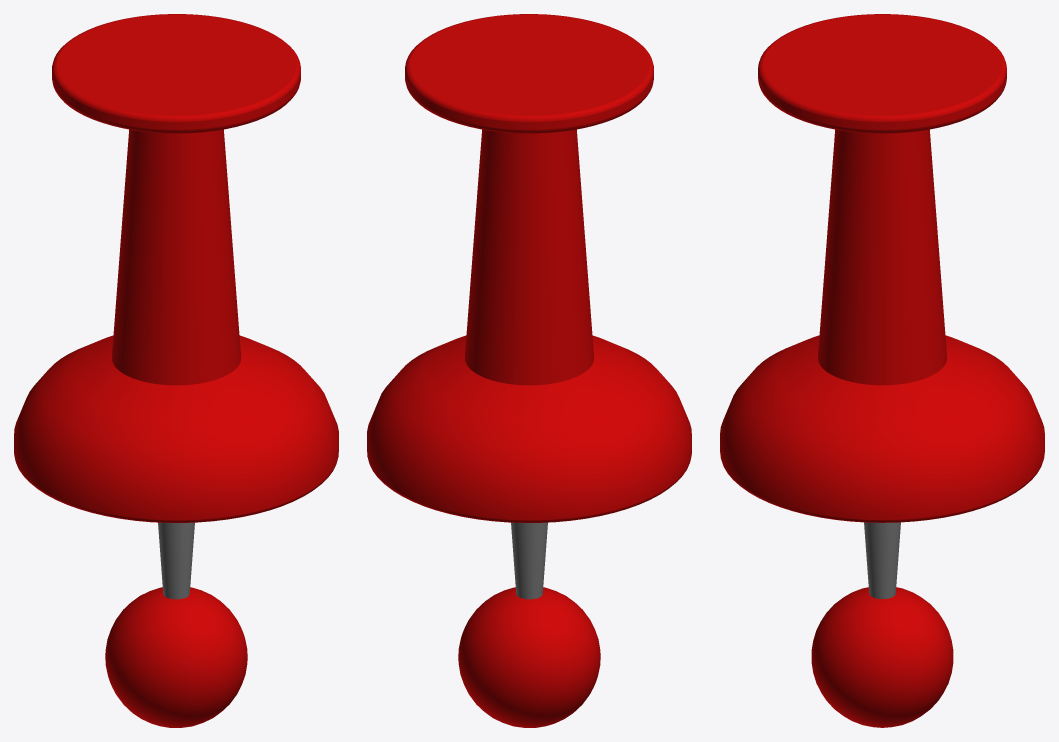
Rendered from PinTool.fbx.
3 renders of one model, left to right at view 1: azimuth 30°, elevation 25°; view 2: azimuth 150°, elevation 25°; view 3: azimuth 270°, elevation 25°, orthographic.
Parts seen in each view (by area): view 1: Base, Sphere, Pin; view 2: Base, Sphere, Pin; view 3: Base, Sphere, Pin.
Part boxes in pixels (left/top/right/bottom): Base: left=14, top=14, right=338, bottom=522; Sphere: left=105, top=587, right=247, bottom=727; Pin: left=158, top=522, right=194, bottom=599; Base: left=367, top=14, right=691, bottom=522; Sphere: left=458, top=587, right=600, bottom=727; Pin: left=511, top=522, right=547, bottom=599; Base: left=720, top=14, right=1044, bottom=522; Sphere: left=811, top=587, right=953, bottom=727; Pin: left=864, top=522, right=900, bottom=598.
Bounding box in the file's own units: 34.2 × 76.19 × 34.2.
